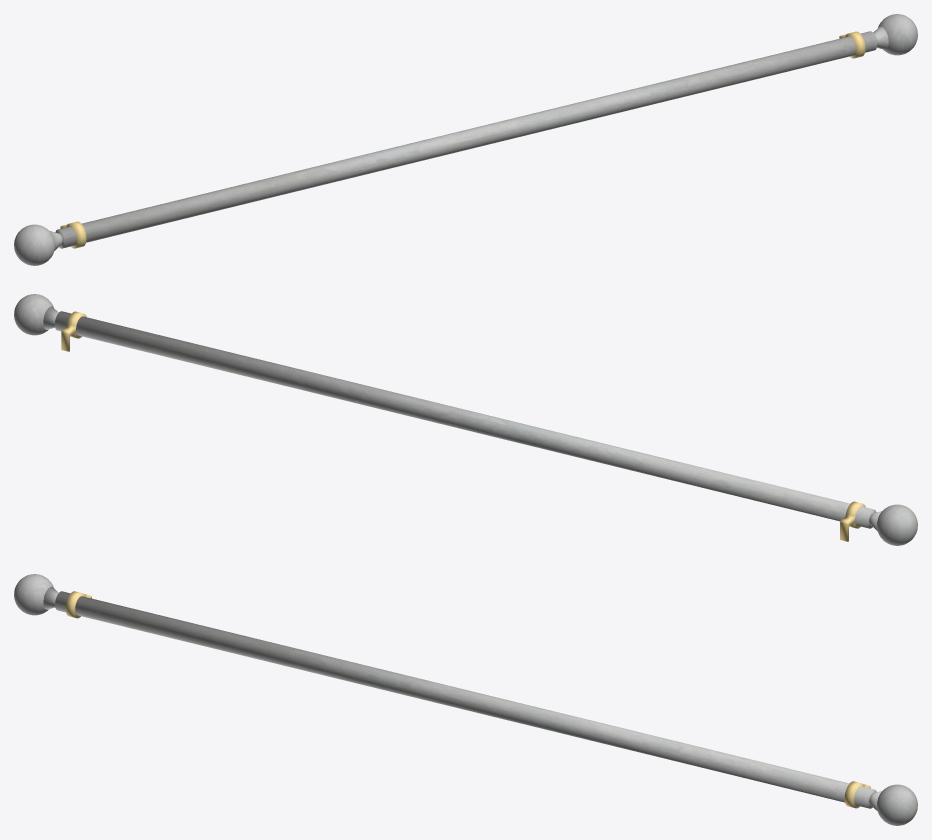
File: CurtainRail.fbx
The picture shows the model from 3 angles, top to bottom: view 1: azimuth 30°, elevation 25°; view 2: azimuth 150°, elevation 25°; view 3: azimuth 330°, elevation 25°; orthographic projection.
Parts seen in each view (by area): view 1: CurtainRail; view 2: CurtainRail; view 3: CurtainRail.
Part boxes in pixels (x1=…): CurtainRail: x1=14, y1=14, x2=917, y2=265; CurtainRail: x1=14, y1=294, x2=917, y2=545; CurtainRail: x1=14, y1=574, x2=917, y2=825.
Size of the model in its own units: 415 by 16.58 by 17.75.
1 material, 1 textured.
